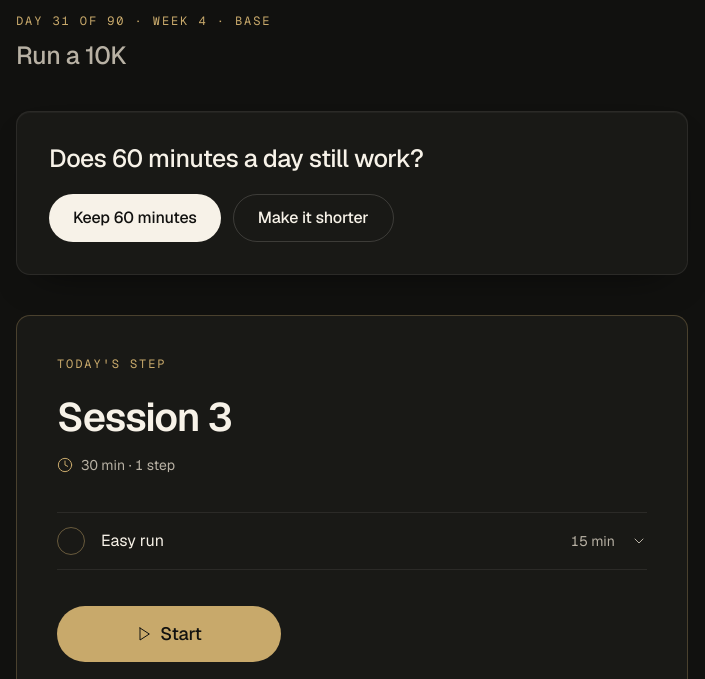
Test case: The daily-time card (AC-5) › while choosing a shorter time, Keep is still offered
The width and height of the screenshot is (705, 679).
Expected: the heading "Run a 10K" is shown, [16,39,126,71]
Step 1. Click the button "Make it shorter" → (313,218), box [233,194,394,242]
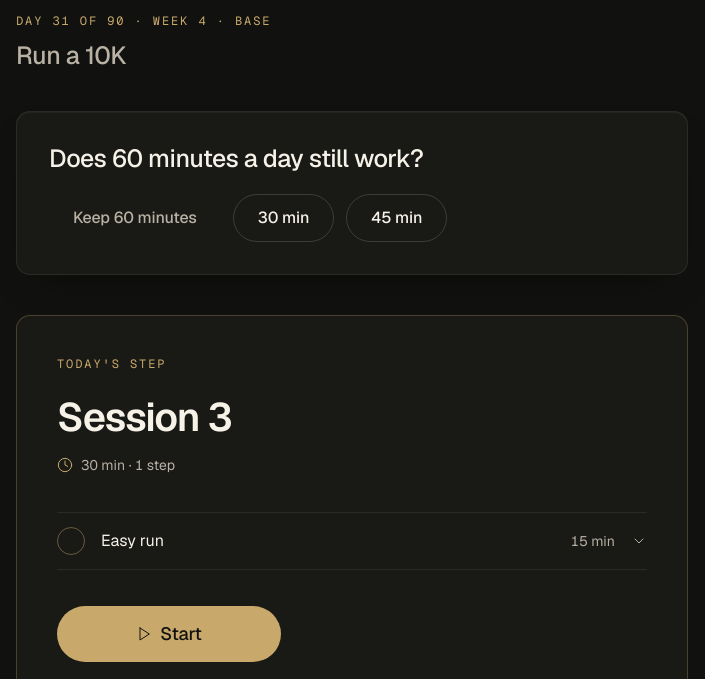
Expected: the button "45 min" is shown, [346,194,447,242]
Step 2. Click the button "Keep 60 minutes" → (135,218), box [49,194,221,242]
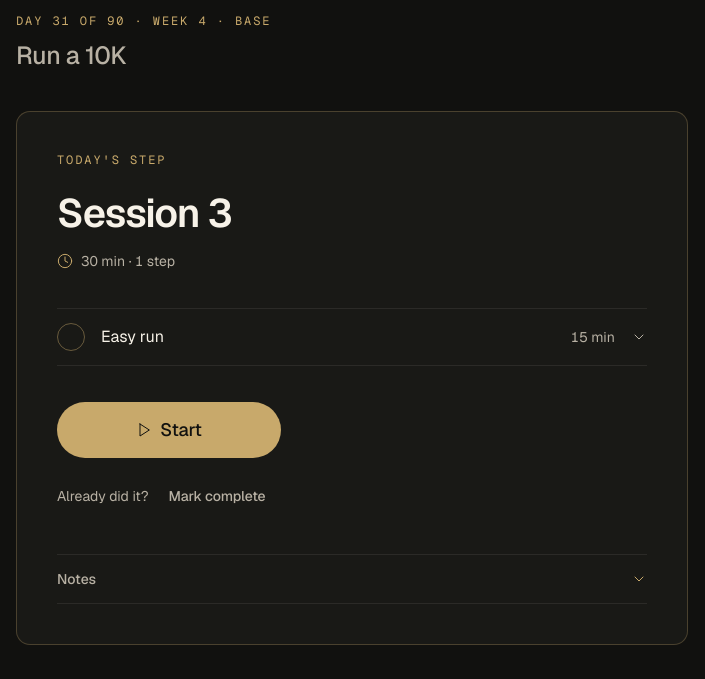
Expected: the heading "Does 60 minutes a day still work?" is gone
